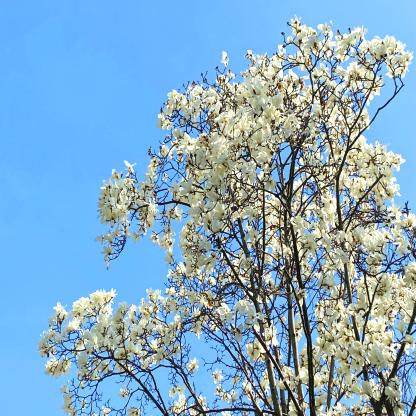Mokuren: (38, 13, 415, 416)
